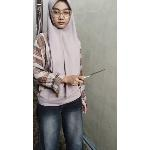Pisau: (80, 65, 108, 81)
